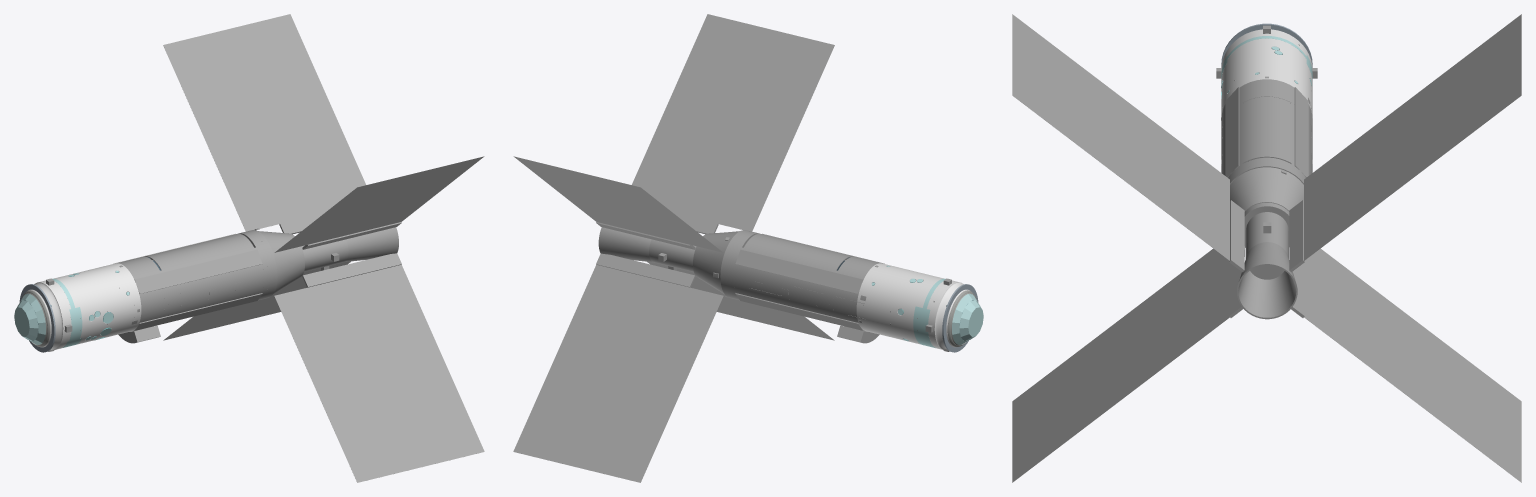
The model's file is wayfarer_crown_parts_v252_88ce19fc.glb.
3 views of the same model, side by side, from view 1: azimuth 30°, elevation 25°; view 2: azimuth 150°, elevation 25°; view 3: azimuth 270°, elevation 25° (orthographic). The views are drawn at different scales.
Visible parts, largest first — view 1: dry:hotfin_220, dry:hotfin_40, dry:hotfin_140, dry:armor, dry:skin_midship, dry:hotfin_320, dry:strake_140, dry:thrust_cone, dry:skin_service, dry:door_port, dry:hotfin_root_220, dry:nozzle (+4 smaller); view 2: dry:hotfin_320, dry:hotfin_140, dry:hotfin_40, dry:armor, dry:skin_midship, dry:hotfin_220, dry:strake_40, dry:skin_service, dry:thrust_cone, dry:door_starboard, dry:hotfin_root_320, dry:nozzle (+4 smaller); view 3: dry:hotfin_140, dry:hotfin_40, dry:hotfin_220, dry:hotfin_320, dry:armor, dry:nozzle, dry:thrust_cone, dry:reactor, dry:door_port, dry:door_starboard, dry:skin_service, dry:strake_40 (+7 smaller).
Boxes of the visible parts, left/top/right/bottom form: dry:hotfin_220: left=274, top=264, right=484, bottom=482; dry:hotfin_40: left=163, top=14, right=365, bottom=231; dry:hotfin_140: left=274, top=156, right=484, bottom=252; dry:armor: left=23, top=263, right=141, bottom=350; dry:skin_midship: left=160, top=247, right=263, bottom=316; dry:hotfin_320: left=163, top=261, right=350, bottom=340; dry:strake_140: left=134, top=249, right=262, bottom=293; dry:thrust_cone: left=258, top=231, right=304, bottom=293; dry:skin_service: left=117, top=256, right=168, bottom=330; dry:door_port: left=152, top=236, right=253, bottom=270; dry:hotfin_root_220: left=302, top=253, right=401, bottom=287; dry:nozzle: left=345, top=227, right=398, bottom=261; dry:hotfin_320: left=513, top=264, right=723, bottom=482; dry:hotfin_140: left=632, top=14, right=834, bottom=231; dry:hotfin_40: left=513, top=156, right=723, bottom=252; dry:armor: left=856, top=263, right=974, bottom=350; dry:skin_midship: left=734, top=247, right=837, bottom=316; dry:hotfin_220: left=647, top=261, right=834, bottom=340; dry:strake_40: left=735, top=249, right=863, bottom=293; dry:skin_service: left=829, top=256, right=880, bottom=330; dry:thrust_cone: left=693, top=231, right=739, bottom=293; dry:door_starboard: left=744, top=236, right=845, bottom=270; dry:hotfin_root_320: left=596, top=253, right=695, bottom=287; dry:nozzle: left=598, top=227, right=652, bottom=262; dry:hotfin_140: left=1012, top=14, right=1229, bottom=260; dry:hotfin_40: left=1304, top=14, right=1521, bottom=260; dry:hotfin_220: left=1012, top=248, right=1229, bottom=482; dry:hotfin_320: left=1304, top=248, right=1521, bottom=482; dry:armor: left=1221, top=29, right=1312, bottom=117; dry:nozzle: left=1237, top=242, right=1297, bottom=319; dry:thrust_cone: left=1230, top=167, right=1303, bottom=247; dry:reactor: left=1245, top=212, right=1288, bottom=279; dry:door_port: left=1242, top=97, right=1266, bottom=163; dry:door_starboard: left=1267, top=97, right=1291, bottom=163; dry:skin_service: left=1221, top=79, right=1312, bottom=135; dry:strake_40: left=1294, top=87, right=1308, bottom=177.
Bounding box in the file's own units: 54.5 × 42.11 × 50.18.
